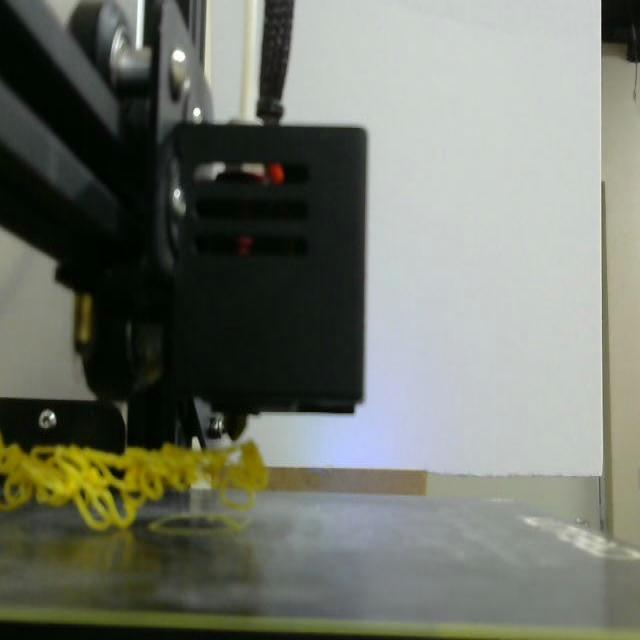spaghetti: (0, 436, 268, 529)
